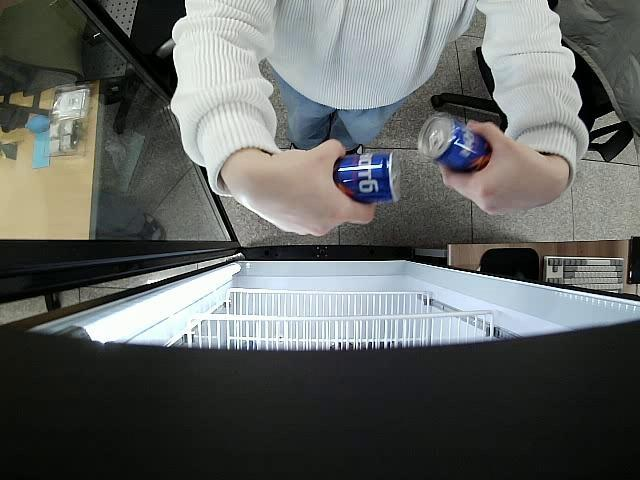16_hot6: (418, 114, 493, 174), (333, 151, 408, 205)
